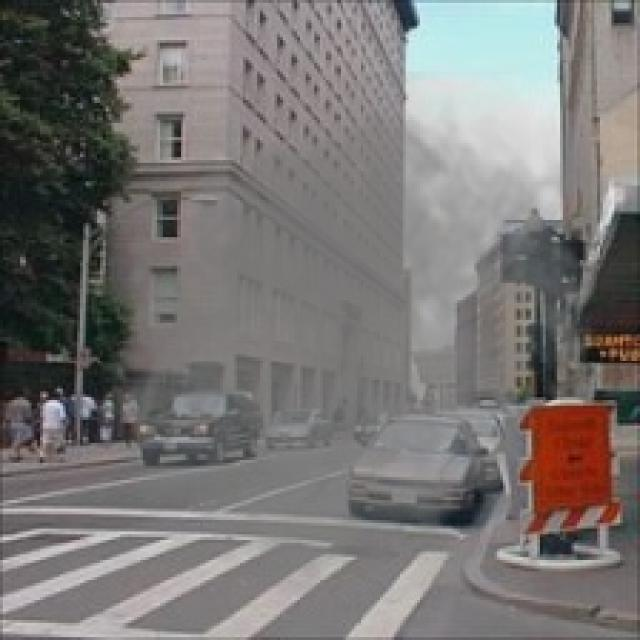Smoke: (100, 71, 626, 614)
